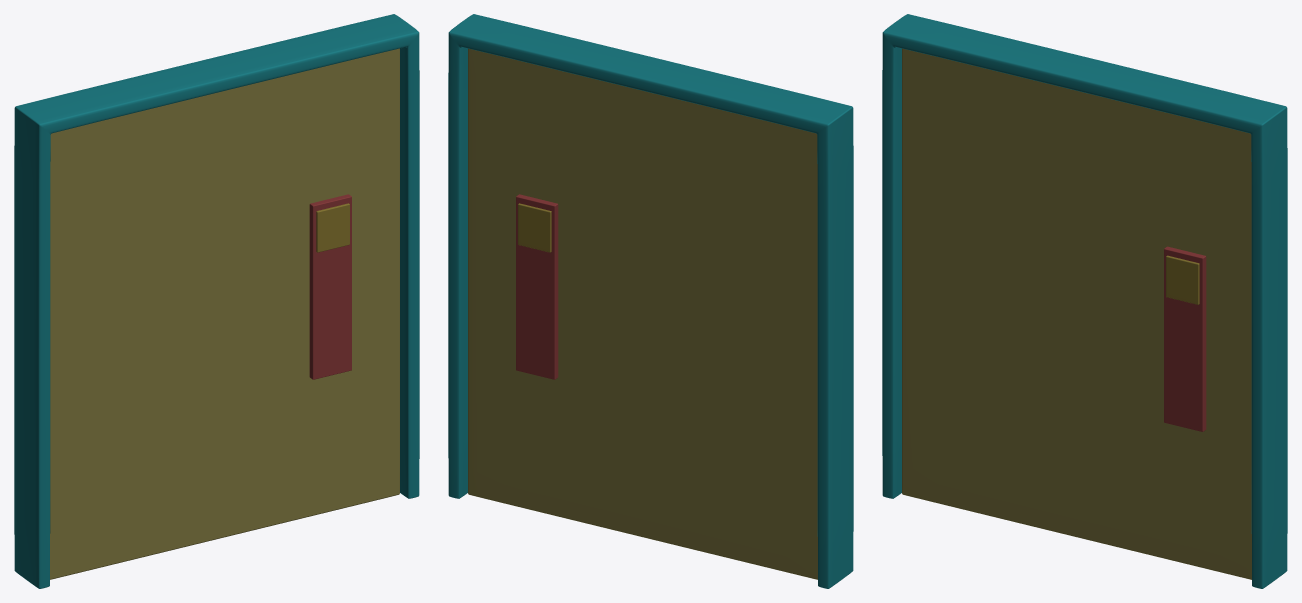
The model's file is Door_Wide.fbx.
The picture shows the model from 3 angles, left to right: view 1: azimuth 30°, elevation 25°; view 2: azimuth 150°, elevation 25°; view 3: azimuth 330°, elevation 25°; orthographic projection.
Visible parts, largest first — view 1: Door_Main (×3), Door_Frame; view 2: Door_Main (×3), Door_Frame; view 3: Door_Main (×3), Door_Frame.
Boxes of the visible parts, x1,y1,x2,y2 form: Door_Main (×3): (50,48,399,579); Door_Frame: (14,14,419,588); Door_Main (×3): (468,48,817,579); Door_Frame: (448,14,853,588); Door_Main (×3): (902,48,1251,579); Door_Frame: (882,14,1287,588).
Bounding box in the file's own units: 6 × 7 × 0.7.
